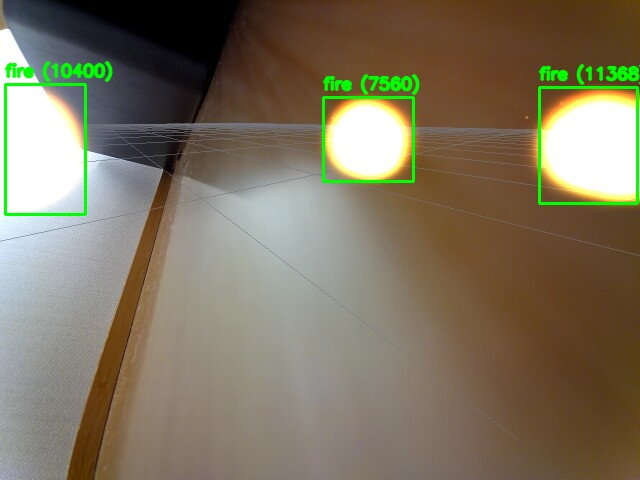fire: (539, 87, 637, 203), (5, 84, 85, 214), (323, 97, 413, 181)
